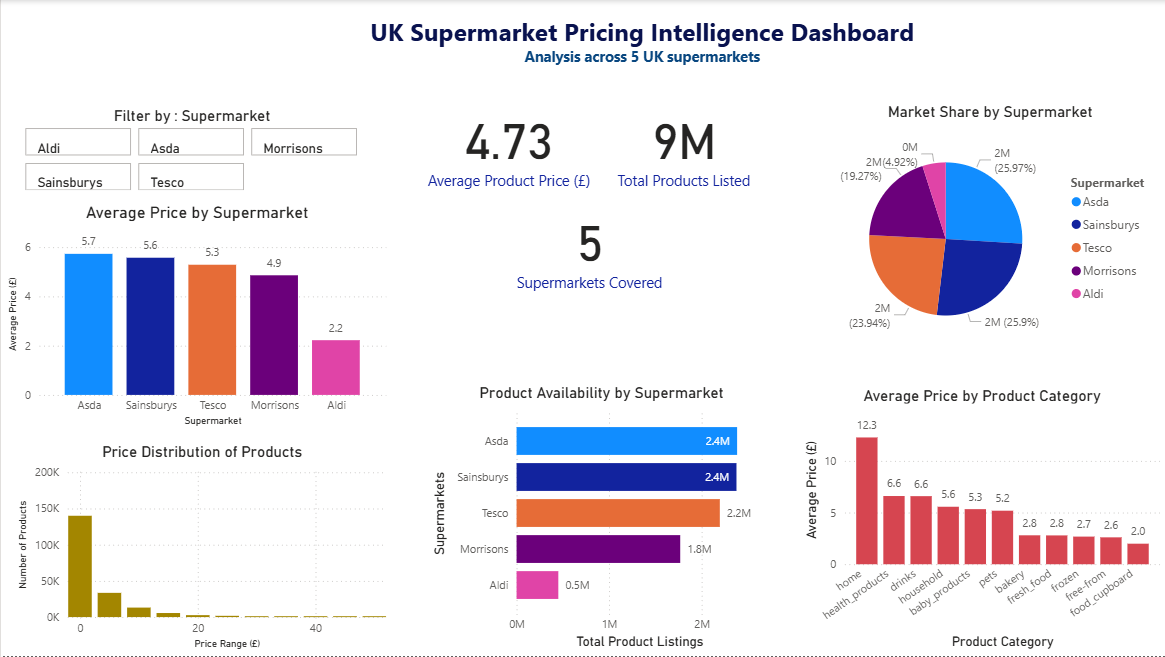

What the dashboard file says about the page in this screenshot:
{"tool":"powerbi","page":{"name":"Page 1","canvas":[1280,720],"ordinal":0},"visuals":[{"type":"card","fields":{"Values":["Avg(clean_data.AVG_PRICE)"]},"box":[455.6,104.3,204.5,111.1],"z":0},{"type":"card","fields":{"Values":["Count(clean_data.SUPERMARKET)"]},"box":[558.5,215.4,175.6,111.1],"z":1000},{"type":"card","fields":{"Values":["Sum(clean_data.TOTAL_PRODUCTS)"]},"box":[660,104.3,179.8,111.1],"z":2000},{"type":"clusteredColumnChart","title":"Average Price by Supermarket","fields":{"Category":["clean_data.SUPERMARKET"],"Y":["Avg(clean_data.AVG_PRICE)"]},"box":[0,214.1,430.9,263.5],"z":3000},{"type":"clusteredBarChart","title":"Product Availability by Supermarket","fields":{"Category":["clean_data.SUPERMARKET"],"Y":["Sum(clean_data.TOTAL_PRODUCTS)"]},"box":[465.2,413,388.3,307.4],"z":4000},{"type":"clusteredColumnChart","title":"Price Distribution of Products","fields":{"Category":["processed_clean_data_2026-04-15-1959.Price (£) (bins)"],"Y":["CountNonNull(processed_clean_data_2026-04-15-1959.Price (£))"]},"box":[11,477.5,419.9,242.9],"z":5000},{"type":"pieChart","title":"Market Share by Supermarket","fields":{"Category":["clean_data.SUPERMARKET"],"Y":["Sum(clean_data.TOTAL_PRODUCTS)"]},"box":[891.9,104.3,388.3,292.3],"z":6000},{"type":"clusteredColumnChart","title":"Average Price by Product Category","fields":{"Category":["processed_clean_data_2026-04-15-1959.CATEGORY"],"Y":["Avg(processed_clean_data_2026-04-15-1959.Price (£))"]},"box":[874.1,415.8,406.2,304.6],"z":7000},{"type":"advancedSlicerVisual","fields":{"Values":["clean_data.SUPERMARKET"]},"box":[22,116.6,376,98.8],"z":8000},{"type":"textbox","box":[373.2,11,661.4,74.1],"z":9000}]}

Visuals, with their boxes in screenshot pixels (x1, y1, x2, y2), scaled from the page's 1280x720 canvas onto the 1165x657 screenshot:
card - Avg(clean_data.AVG_PRICE): [left=415, top=95, right=601, bottom=197]
card - Count(clean_data.SUPERMARKET): [left=508, top=197, right=668, bottom=298]
card - Sum(clean_data.TOTAL_PRODUCTS): [left=601, top=95, right=764, bottom=197]
"Average Price by Supermarket" clusteredColumnChart: [left=0, top=195, right=392, bottom=436]
"Product Availability by Supermarket" clusteredBarChart: [left=423, top=377, right=777, bottom=656]
"Price Distribution of Products" clusteredColumnChart: [left=10, top=436, right=392, bottom=656]
"Market Share by Supermarket" pieChart: [left=812, top=95, right=1164, bottom=362]
"Average Price by Product Category" clusteredColumnChart: [left=796, top=379, right=1164, bottom=656]
advancedSlicerVisual - clean_data.SUPERMARKET: [left=20, top=106, right=362, bottom=197]
textbox: [left=340, top=10, right=942, bottom=78]
